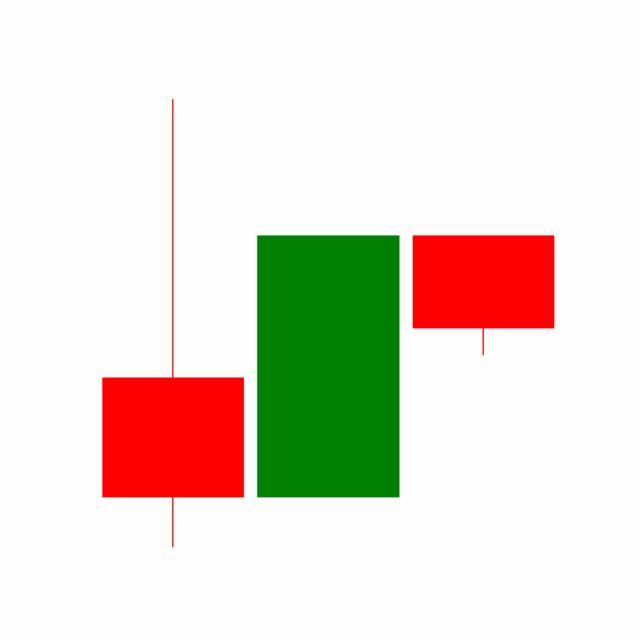Marubozu: (250, 232, 407, 500)
